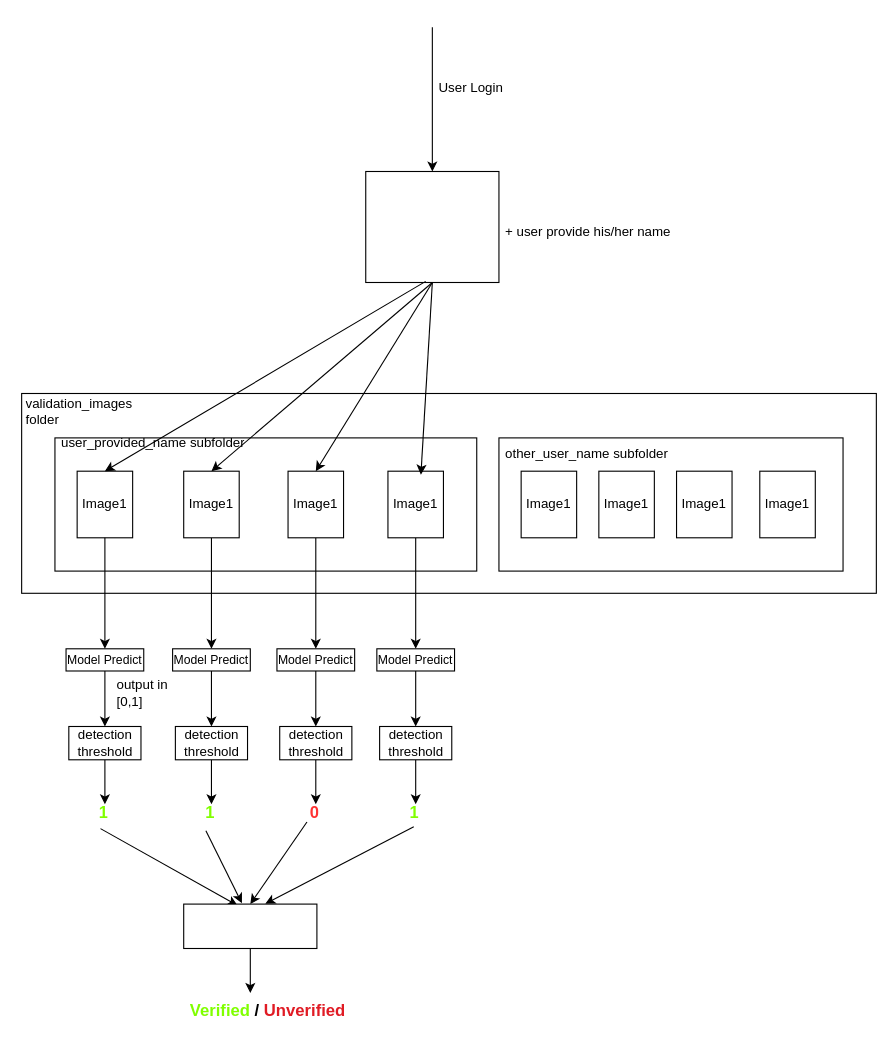
The diagram is 896 pixels wide and 1046 high, and some of its shapes have lost their labels. Here are the shapes that lost their labels. From the top down, the centre of each, then its label:
At point (432, 226): "A input image for Webcam (OpenCV Frame object)".
At point (250, 925): "verification_threshold (proportion of 1 over all sample)".
